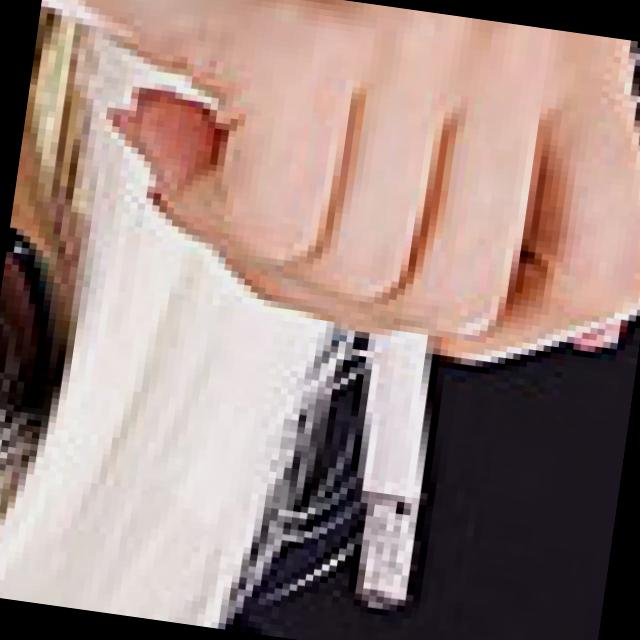smoke: (295, 291, 477, 640)
